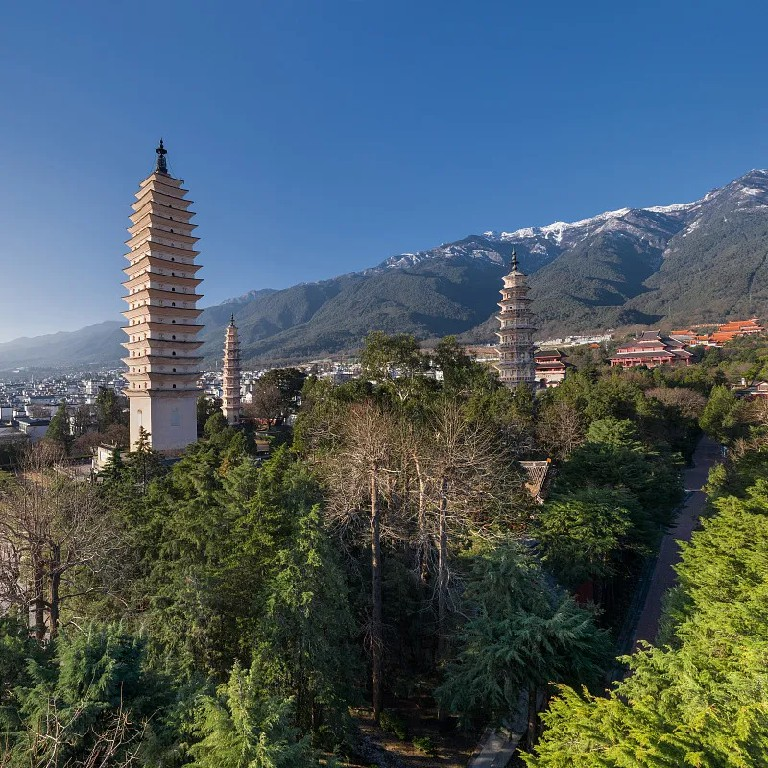ThreePagoda: (121, 136, 204, 451)
